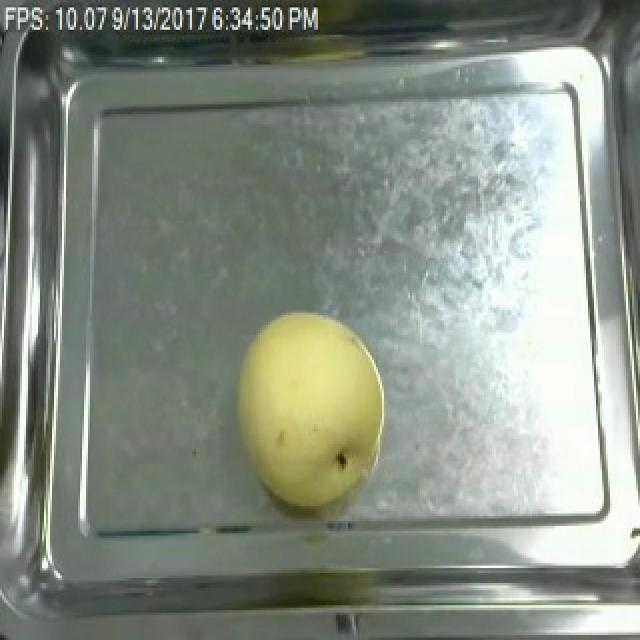Fruit: (226, 302, 394, 514)
